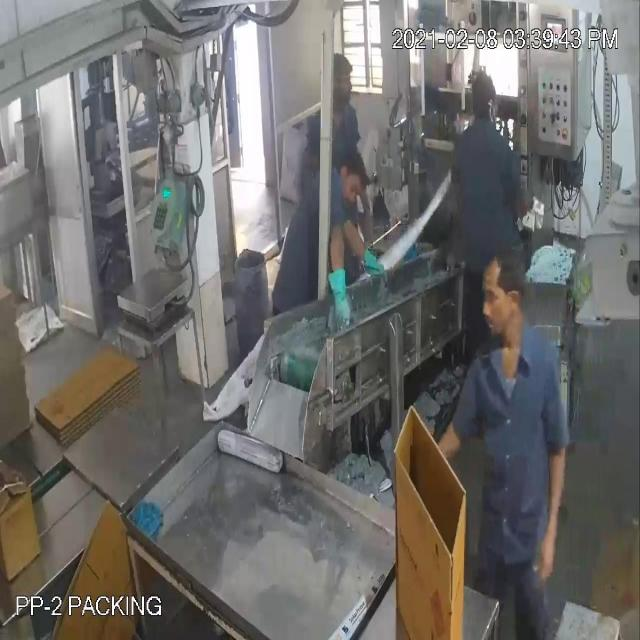No_Gloves: (28, 104, 546, 511)
